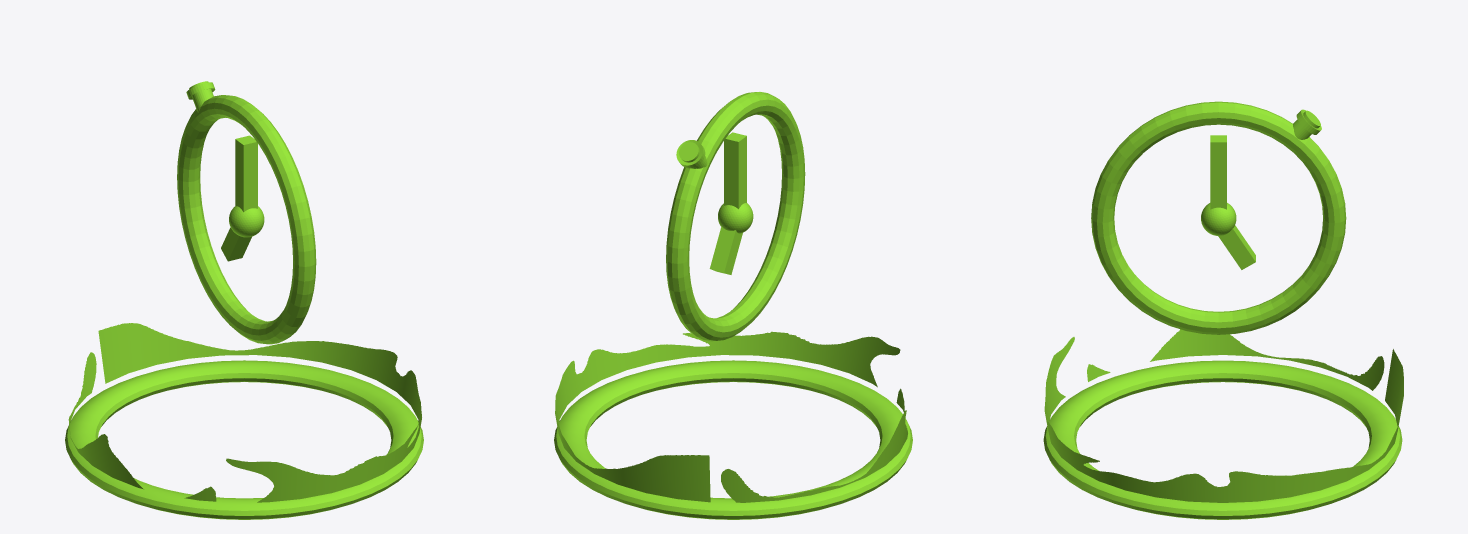
Rendered from StartPoint.fbx.
The picture shows the model from 3 angles, left to right: view 1: azimuth 30°, elevation 25°; view 2: azimuth 150°, elevation 25°; view 3: azimuth 270°, elevation 25°; orthographic projection.
Visible parts, largest first — view 1: Cylinder.017; view 2: Cylinder.017; view 3: Cylinder.017.
Boxes of the visible parts, box(x1,y1,x2,y2) form: Cylinder.017: box(65, 81, 423, 519); Cylinder.017: box(554, 92, 912, 519); Cylinder.017: box(1043, 101, 1403, 519).
Size of the model in its own units: 283 by 234 by 283.
1 material, 1 textured.
